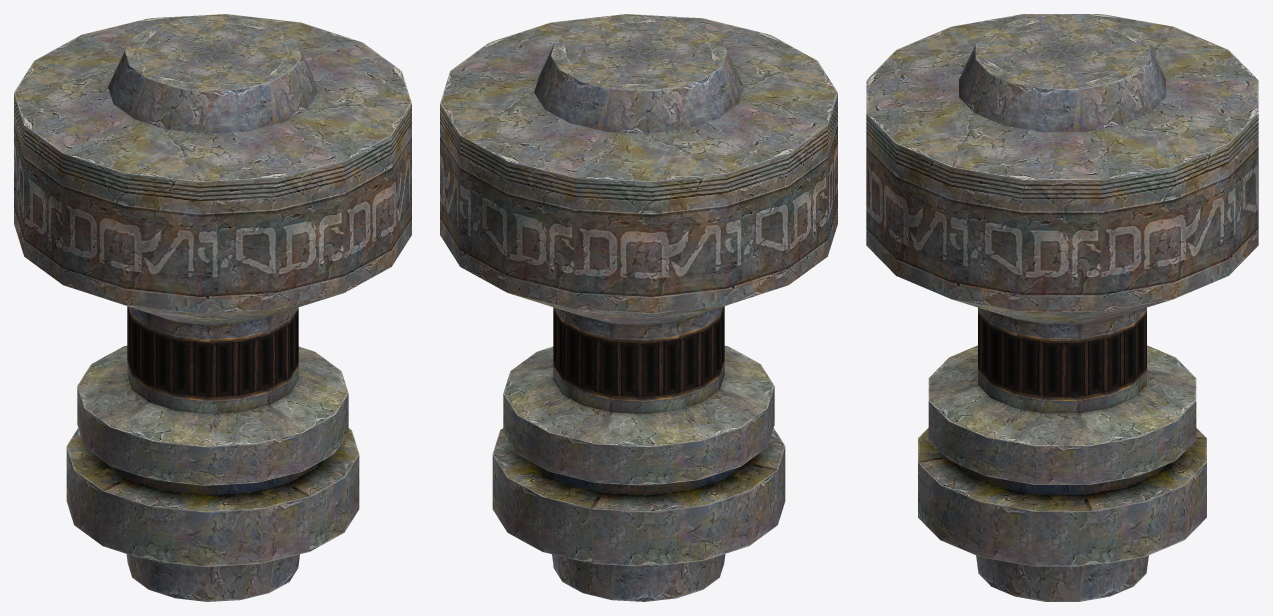
Rendered from all_arch_rakata_wall_set_column02.glb.
3 renders of one model, left to right at view 1: azimuth 30°, elevation 25°; view 2: azimuth 150°, elevation 25°; view 3: azimuth 270°, elevation 25°, orthographic.
Parts seen in each view (by area): view 1: all_arch_rakata_wall_set_column02; view 2: all_arch_rakata_wall_set_column02; view 3: all_arch_rakata_wall_set_column02.
Part boxes in pixels (x1,y1,x2,y2): all_arch_rakata_wall_set_column02: (14, 14, 411, 601); all_arch_rakata_wall_set_column02: (440, 14, 837, 601); all_arch_rakata_wall_set_column02: (866, 14, 1258, 601).
Size of the model in its own units: 1.26 by 1.82 by 1.26.
1 material, 1 textured.
